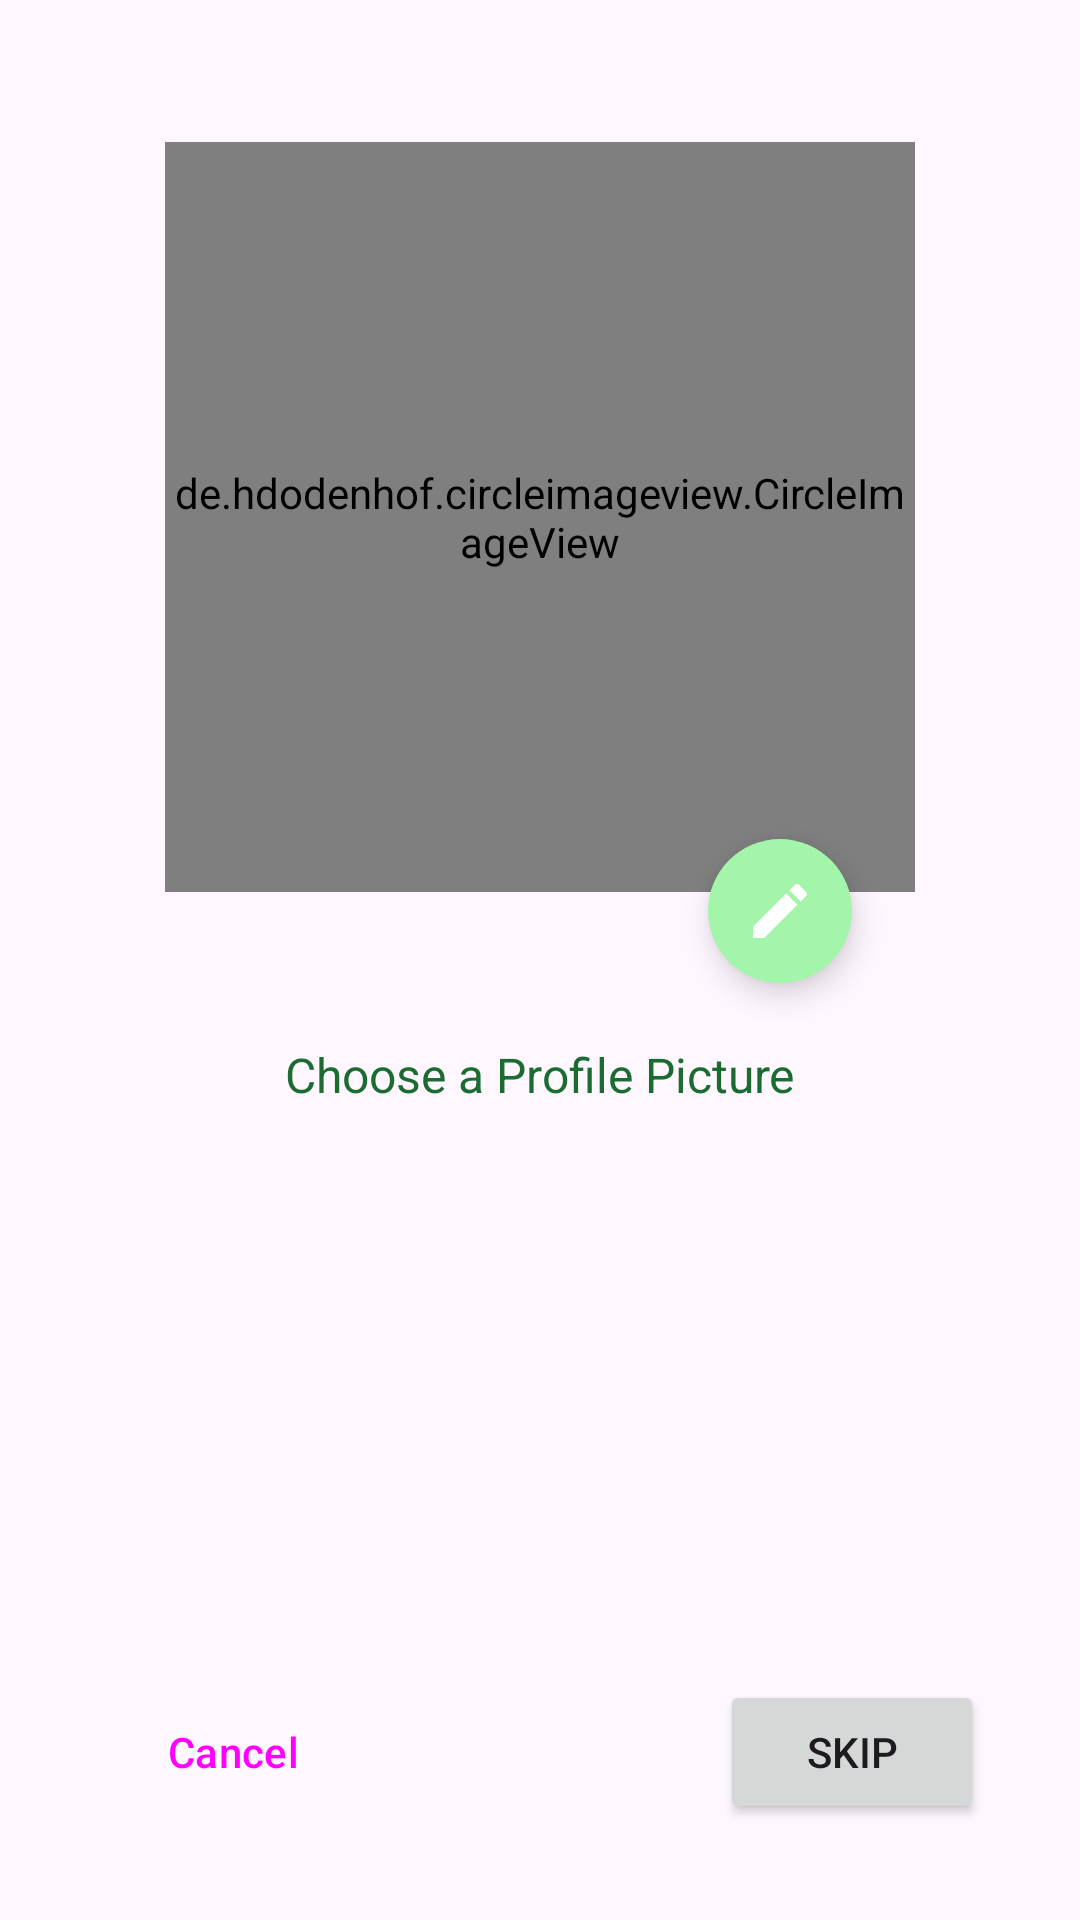

Icons on this 1080w x 1920h Android screen, each with the point to tap as point (x, y):
edit: point (780, 911)
